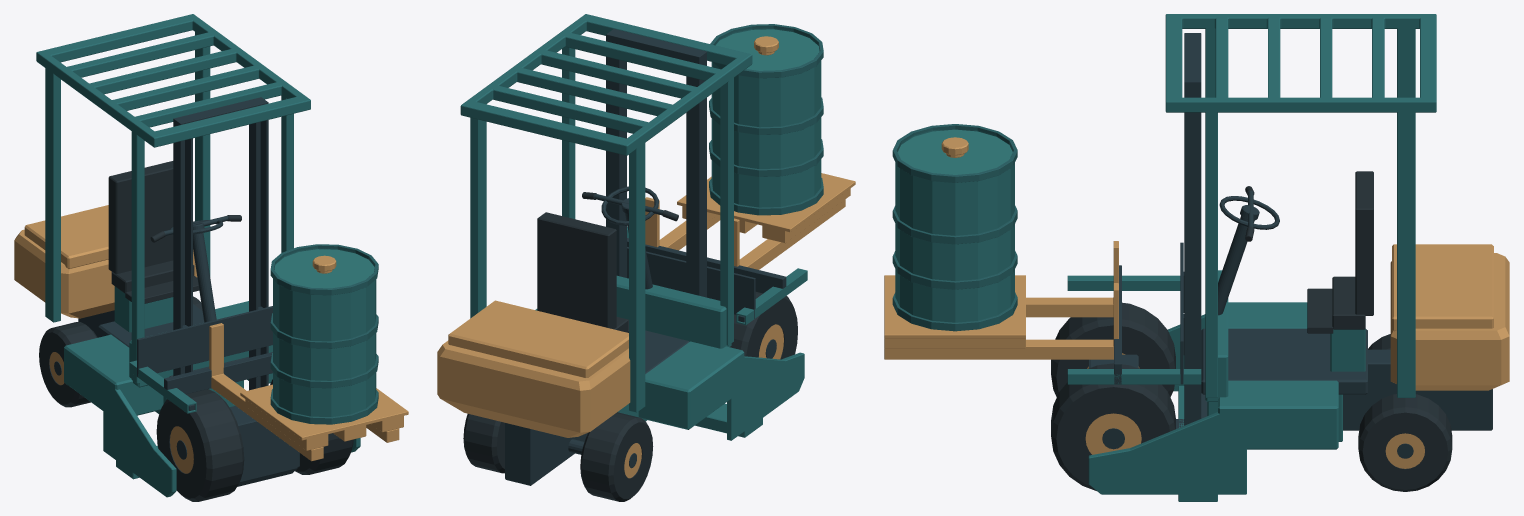
File: drum-forklift-fixture.glb
3 views of the same model, side by side, from view 1: azimuth 30°, elevation 25°; view 2: azimuth 150°, elevation 25°; view 3: azimuth 270°, elevation 25° (orthographic). The views are drawn at different scales.
Visible parts, largest first — view 1: drum-forklift-fixture__batch_06, drum-forklift-fixture__batch_05, drum-forklift-fixture__batch_01, drum-forklift-fixture__batch_07, drum-forklift-fixture__batch_28, drum-forklift-fixture__batch_24, drum-forklift-fixture__batch_08, drum-forklift-fixture__batch_03, drum-forklift-fixture__batch_00, drum-forklift-fixture__batch_02, drum-forklift-fixture__batch_16, drum-forklift-fixture__batch_10 (+5 smaller); view 2: drum-forklift-fixture__batch_06, drum-forklift-fixture__batch_07, drum-forklift-fixture__batch_05, drum-forklift-fixture__batch_01, drum-forklift-fixture__batch_28, drum-forklift-fixture__batch_16, drum-forklift-fixture__batch_03, drum-forklift-fixture__batch_00, drum-forklift-fixture__batch_02, drum-forklift-fixture__batch_08, drum-forklift-fixture__batch_24, drum-forklift-fixture__batch_19 (+6 smaller); view 3: drum-forklift-fixture__batch_06, drum-forklift-fixture__batch_05, drum-forklift-fixture__batch_01, drum-forklift-fixture__batch_07, drum-forklift-fixture__batch_27, drum-forklift-fixture__batch_19, drum-forklift-fixture__batch_03, drum-forklift-fixture__batch_28, drum-forklift-fixture__batch_00, drum-forklift-fixture__batch_24, drum-forklift-fixture__batch_11, drum-forklift-fixture__batch_13 (+5 smaller).
Boxes of the visible parts, box(x1,y1,x2,y2) form: drum-forklift-fixture__batch_06: box(36, 14, 360, 497); drum-forklift-fixture__batch_05: box(78, 97, 299, 486); drum-forklift-fixture__batch_01: box(273, 248, 376, 416); drum-forklift-fixture__batch_07: box(14, 205, 197, 318); drum-forklift-fixture__batch_28: box(108, 161, 199, 303); drum-forklift-fixture__batch_24: box(156, 389, 244, 501); drum-forklift-fixture__batch_08: box(137, 306, 272, 376); drum-forklift-fixture__batch_03: box(270, 244, 378, 424); drum-forklift-fixture__batch_00: box(240, 255, 408, 450); drum-forklift-fixture__batch_02: box(274, 249, 374, 288); drum-forklift-fixture__batch_16: box(39, 322, 97, 407); drum-forklift-fixture__batch_10: box(209, 323, 323, 461); drum-forklift-fixture__batch_06: box(460, 14, 804, 440); drum-forklift-fixture__batch_07: box(437, 300, 630, 437); drum-forklift-fixture__batch_05: box(505, 29, 706, 485); drum-forklift-fixture__batch_01: box(711, 28, 821, 207); drum-forklift-fixture__batch_28: box(537, 212, 628, 332); drum-forklift-fixture__batch_16: box(580, 412, 653, 501); drum-forklift-fixture__batch_03: box(709, 24, 823, 215); drum-forklift-fixture__batch_00: box(677, 36, 855, 243); drum-forklift-fixture__batch_02: box(716, 29, 819, 70); drum-forklift-fixture__batch_08: box(627, 247, 755, 318); drum-forklift-fixture__batch_24: box(730, 292, 797, 359); drum-forklift-fixture__batch_19: box(463, 414, 504, 473); drum-forklift-fixture__batch_06: box(1088, 14, 1436, 501); drum-forklift-fixture__batch_05: box(1088, 33, 1492, 430); drum-forklift-fixture__batch_01: box(895, 129, 1014, 322); drum-forklift-fixture__batch_07: box(1390, 244, 1509, 390); drum-forklift-fixture__batch_27: box(1051, 363, 1175, 490); drum-forklift-fixture__batch_19: box(1358, 394, 1452, 491); drum-forklift-fixture__batch_03: box(892, 124, 1017, 331); drum-forklift-fixture__batch_28: box(1307, 171, 1373, 333); drum-forklift-fixture__batch_00: box(884, 137, 1025, 348); drum-forklift-fixture__batch_24: box(1051, 302, 1175, 397); drum-forklift-fixture__batch_11: box(884, 283, 1118, 359); drum-forklift-fixture__batch_13: box(1067, 275, 1201, 384).
Bounding box in the file's own units: 1.2 × 2.1 × 3.
